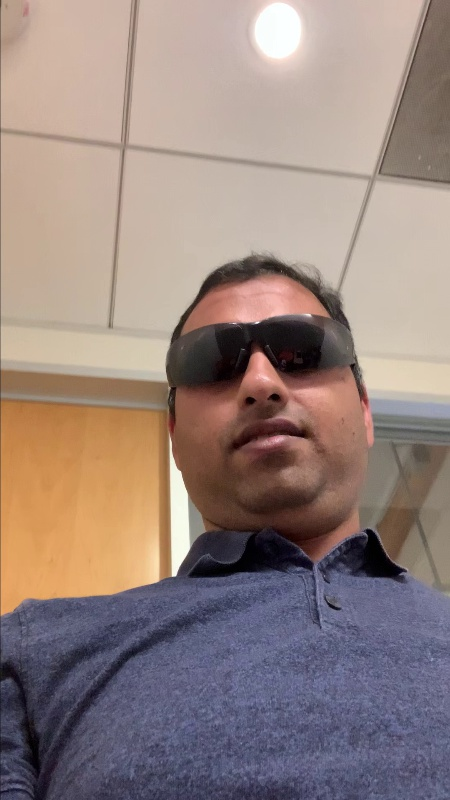glasses: (146, 316, 384, 386)
